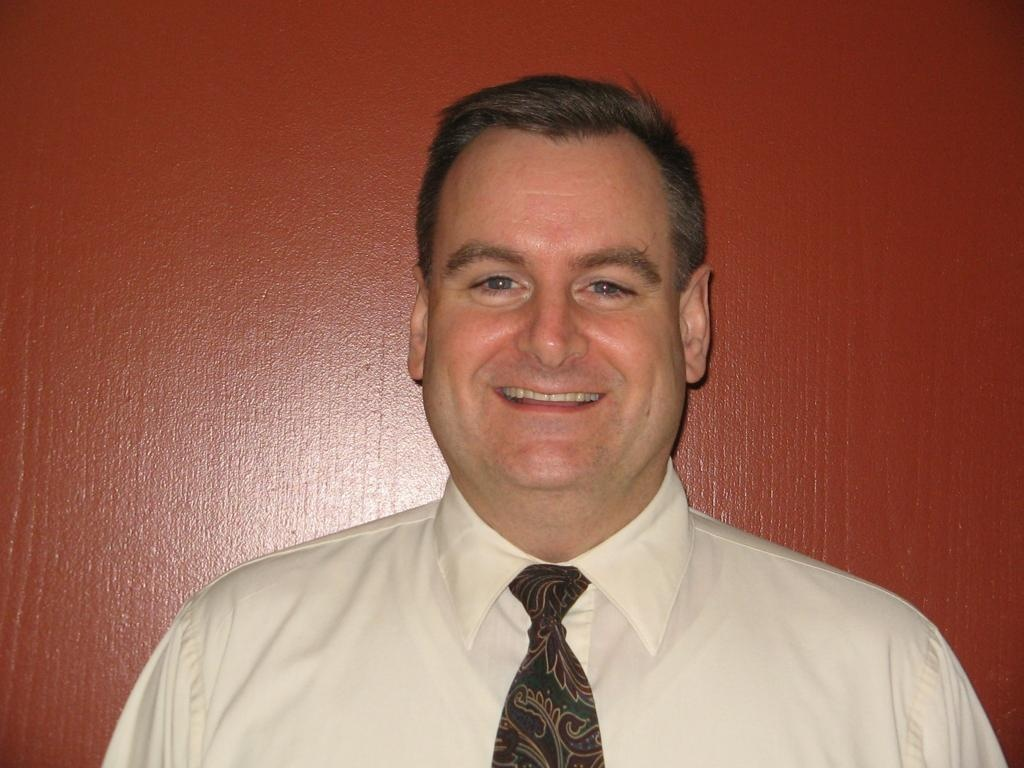human_face: (432, 128, 684, 490)
